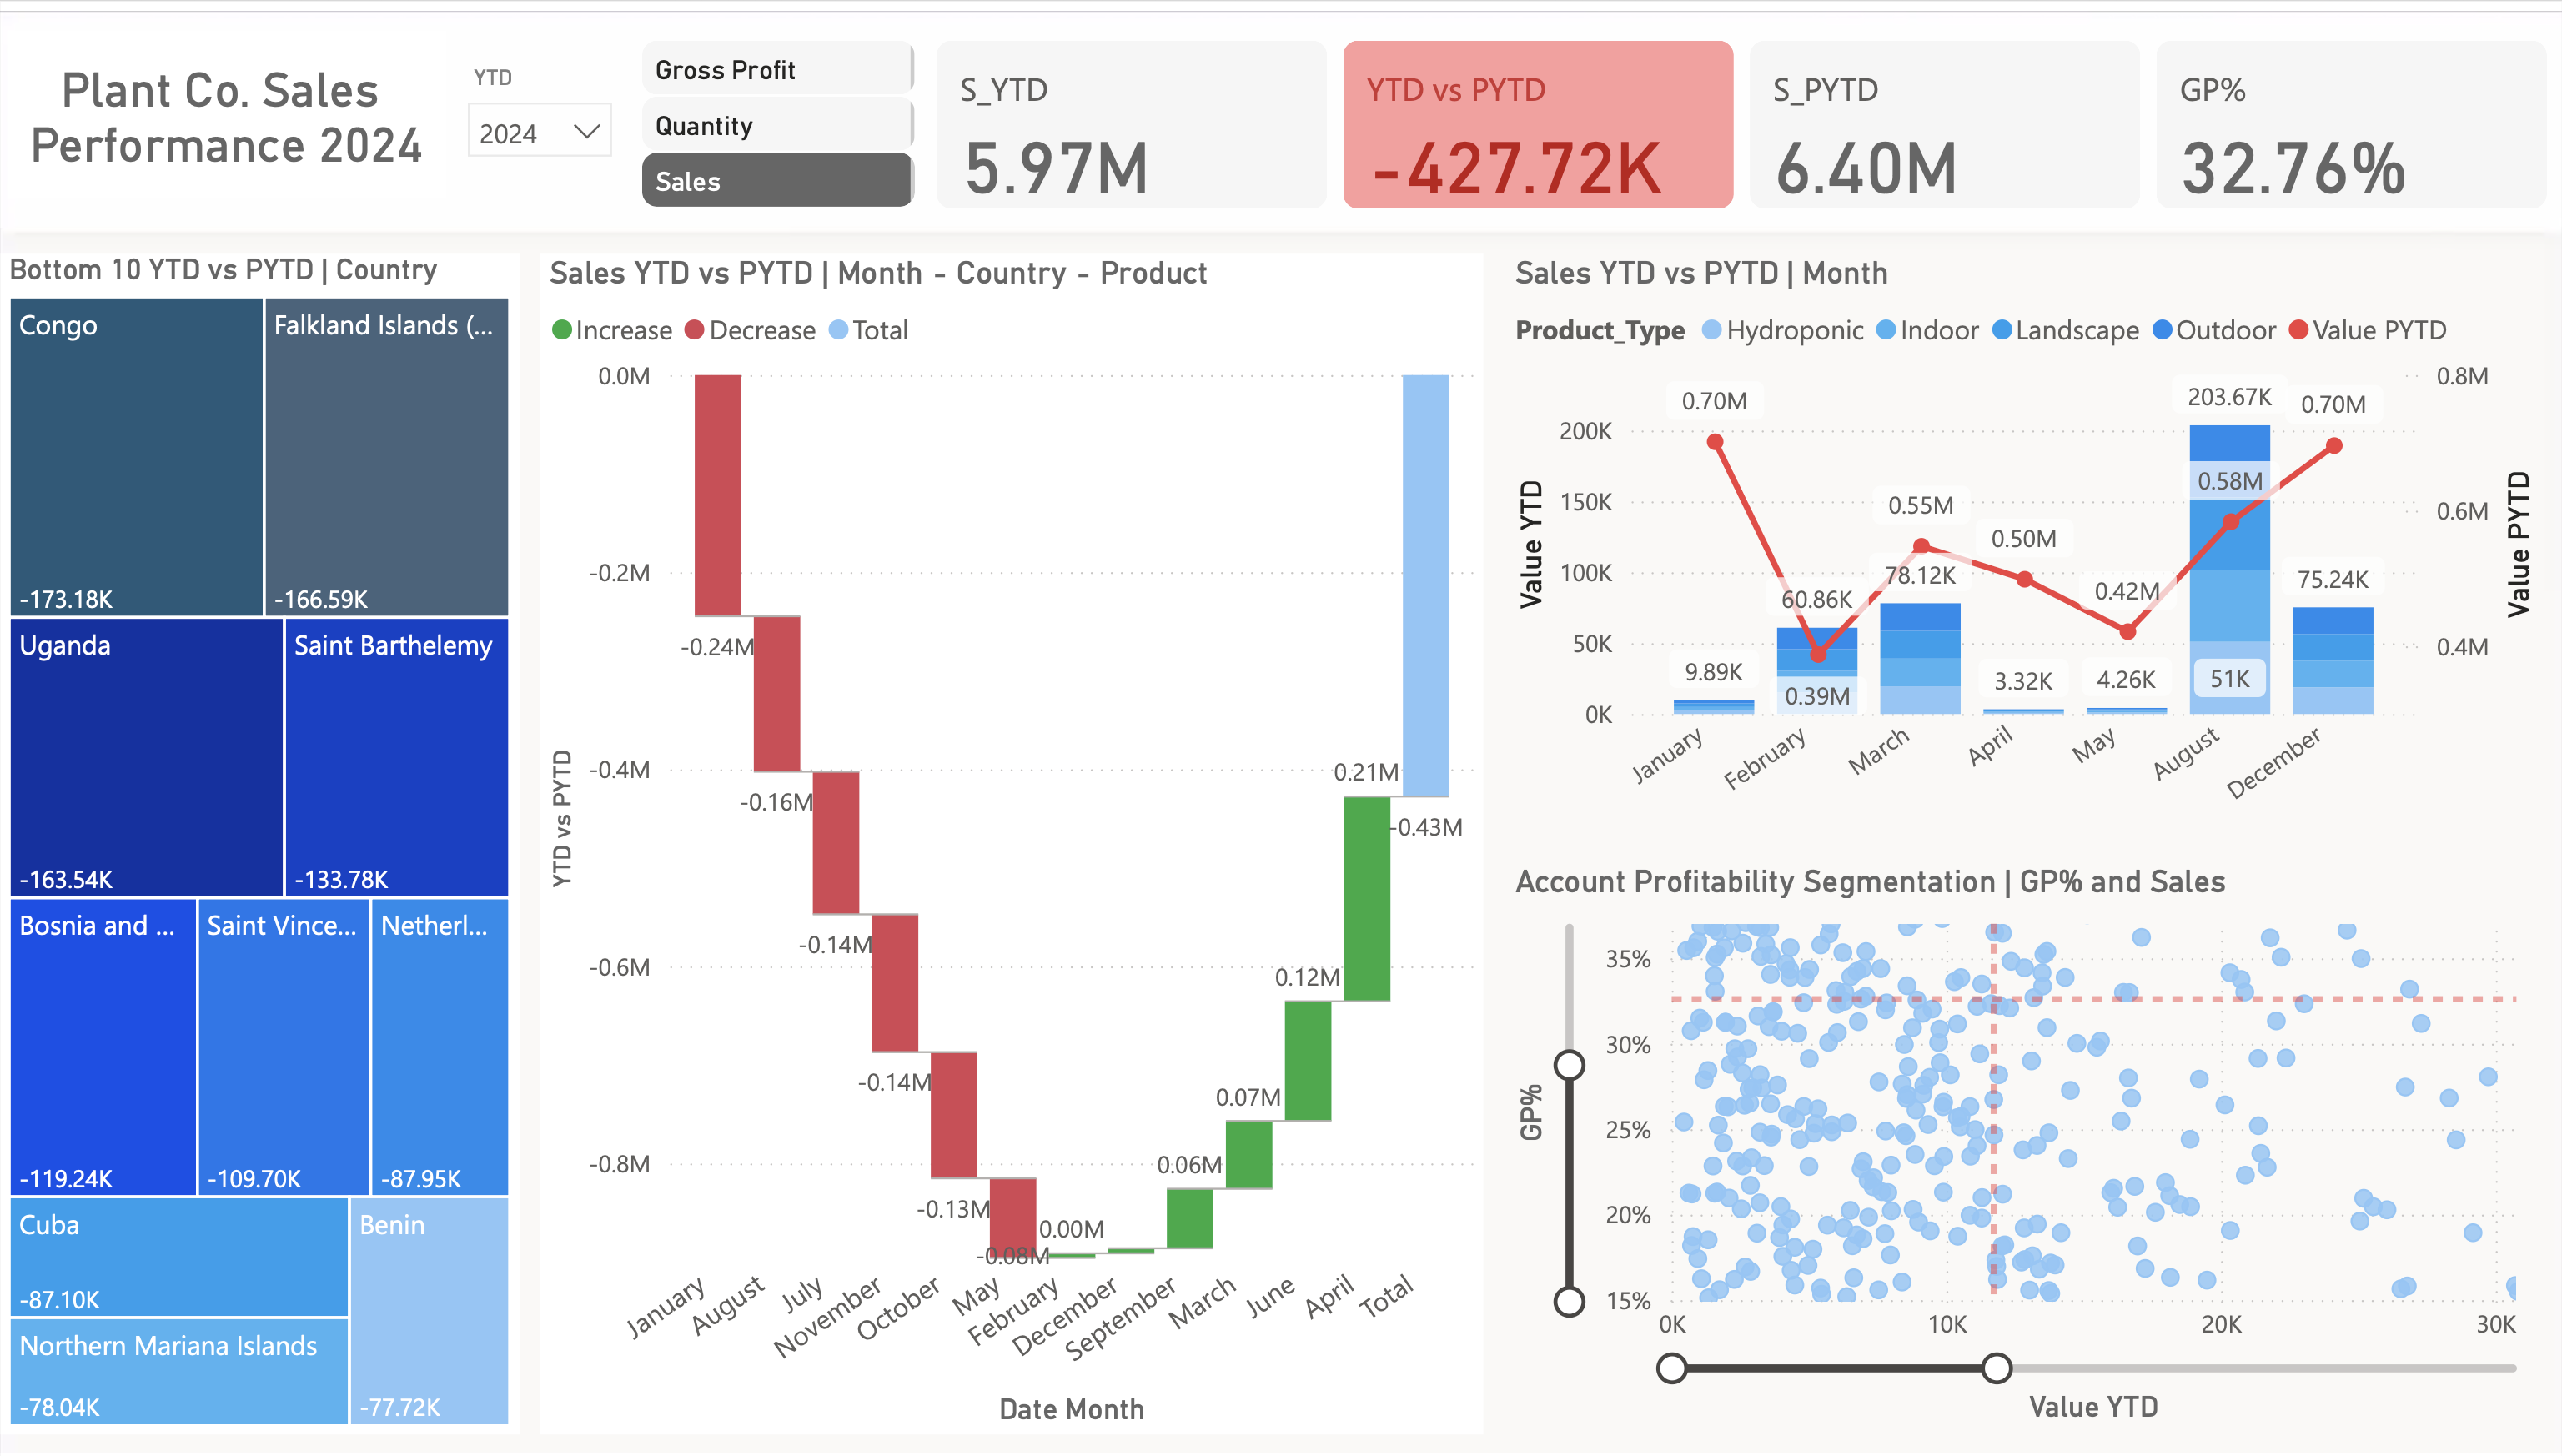

Layout of this report page (visuals, bound fields, positions):
{"tool":"powerbi","page":{"name":"Performance Report","canvas":[1280,720],"ordinal":0},"visuals":[{"type":"cardVisual","fields":{"Data":["_Measures.S_YTD","_Measures.YTD vs PYTD","_Measures.S_PYTD","_Measures.GP%"]},"box":[462.6,9.8,817.7,94.5],"z":0},{"type":"slicer","fields":{"Values":["Dim_Date.Date.Variation.Date Hierarchy.Year"]},"box":[223.7,21.7,92.3,60.8],"z":1000},{"type":"advancedSlicerVisual","fields":{"Values":["Slc_Values.Values"]},"box":[316,9.8,146.6,94.5],"z":2000},{"type":"treemap","title":"Bottom 10 YTD vs PYTD | Country","fields":{"Values":["_Measures.YTD vs PYTD"],"Group":["Dim_Account.country"]},"box":[0,121.4,259.9,590.2],"z":3000},{"type":"waterfallChart","fields":{"Y":["_Measures.YTD vs PYTD"],"Category":["Dim_Date.Date.Variation.Date Hierarchy.Month","Dim_Account.country","Dim_Product.Product_Type","Dim_Product.Product_Name"]},"box":[269.6,121.4,471.2,590.2],"z":4000},{"type":"lineStackedColumnComboChart","fields":{"Y":["_Measures.S_YTD"],"Category":["Dim_Date.Date.Variation.Date Hierarchy.Month"],"Y2":["_Measures.S_PYTD"],"Series":["Dim_Product.Product_Type"]},"box":[751.7,121.4,518.6,295.1],"z":5000},{"type":"scatterChart","fields":{"Y":["_Measures.GP%"],"X":["_Measures.S_YTD"],"Category":["Dim_Account.Account"]},"box":[751.7,425,519.8,285.4],"z":6000},{"type":"card","fields":{"Values":["_Measures.Report title"]},"box":[4.3,9.8,219.4,83.6],"z":7000}]}

Visuals, with their boxes in screenshot pixels (x1, y1, x2, y2), scaled from the page's 1280x720 canvas onto the 2562x1456 screenshot:
cardVisual - _Measures.S_YTD x _Measures.YTD vs PYTD: {"x1": 926, "y1": 20, "x2": 2561, "y2": 211}
slicer - Dim_Date.Date.Variation.Date Hierarchy.Year: {"x1": 448, "y1": 44, "x2": 632, "y2": 167}
advancedSlicerVisual - Slc_Values.Values: {"x1": 632, "y1": 20, "x2": 926, "y2": 211}
"Bottom 10 YTD vs PYTD | Country" treemap: {"x1": 0, "y1": 245, "x2": 520, "y2": 1439}
waterfallChart - _Measures.YTD vs PYTD x Dim_Date.Date.Variation.Date Hierarchy.Month: {"x1": 540, "y1": 245, "x2": 1483, "y2": 1439}
lineStackedColumnComboChart - _Measures.S_YTD x Dim_Date.Date.Variation.Date Hierarchy.Month: {"x1": 1505, "y1": 245, "x2": 2543, "y2": 842}
scatterChart - _Measures.GP% x _Measures.S_YTD: {"x1": 1505, "y1": 860, "x2": 2545, "y2": 1437}
card - _Measures.Report title: {"x1": 8, "y1": 20, "x2": 448, "y2": 188}
